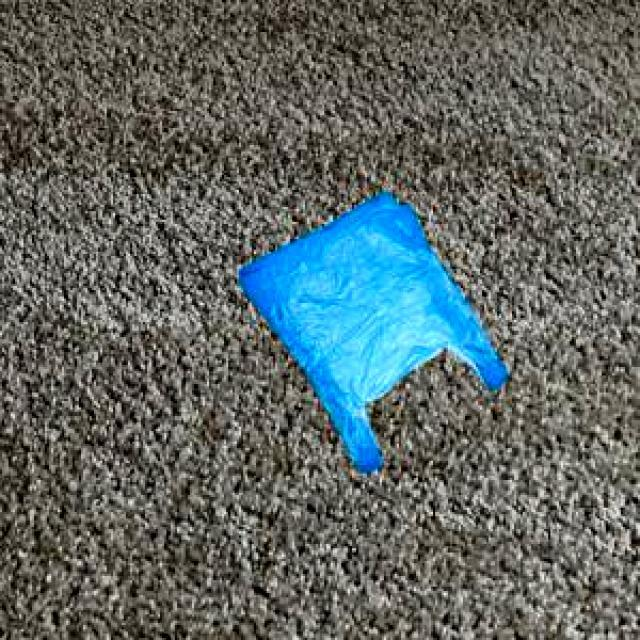Plastic_Bag: (236, 190, 504, 470)
